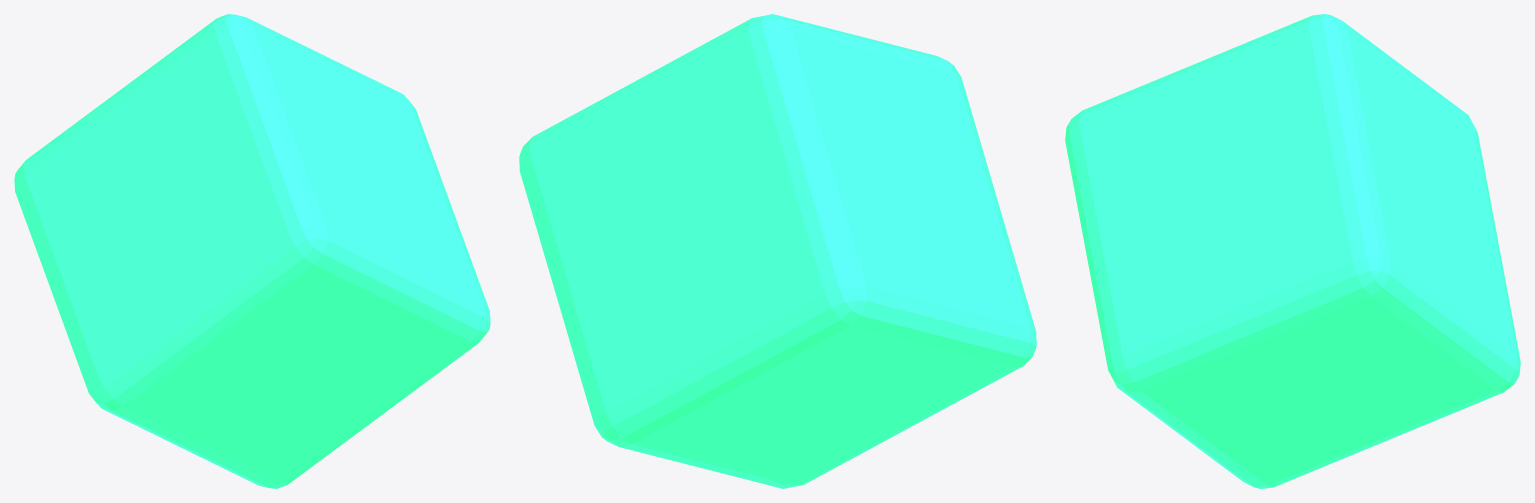
3 views of the same model, side by side, from view 1: azimuth 30°, elevation 25°; view 2: azimuth 150°, elevation 25°; view 3: azimuth 270°, elevation 25° (orthographic). The views are drawn at different scales.
Parts seen in each view (by area): view 1: cube; view 2: cube; view 3: cube.
Boxes of the visible parts, box(x1,y1,x2,y2) form: cube: box(14, 14, 490, 488); cube: box(519, 14, 1036, 488); cube: box(1065, 14, 1520, 488).
Bounding box in the file's own units: 0.4916 × 0.5401 × 0.4797.
